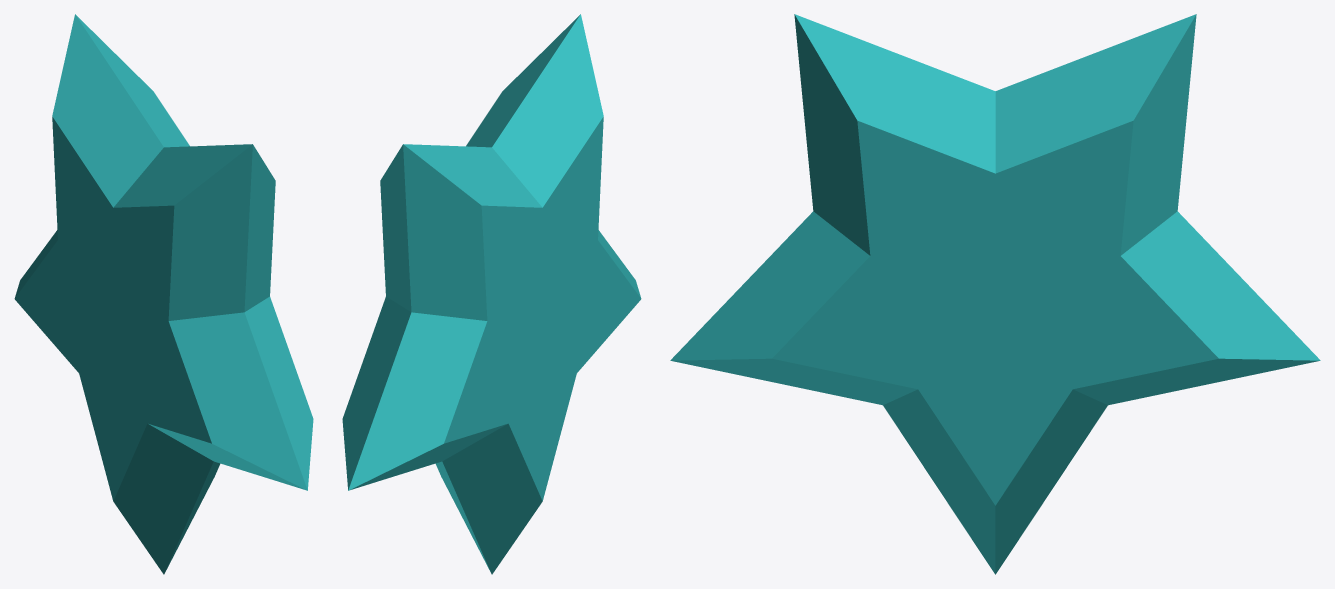
3 renders of one model, left to right at view 1: azimuth 30°, elevation 25°; view 2: azimuth 150°, elevation 25°; view 3: azimuth 270°, elevation 25°, orthographic. The views are drawn at different scales.
Parts seen in each view (by area): view 1: Star001; view 2: Star001; view 3: Star001.
Boxes of the visible parts, left/top/right/bottom form: Star001: left=14, top=14, right=313, bottom=574; Star001: left=342, top=14, right=641, bottom=574; Star001: left=670, top=14, right=1320, bottom=574.
Bounding box in the file's own units: 4.46 × 20.85 × 21.93.
